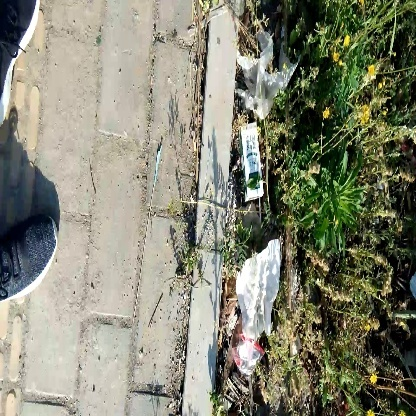milk-box: (239, 123, 274, 202)
